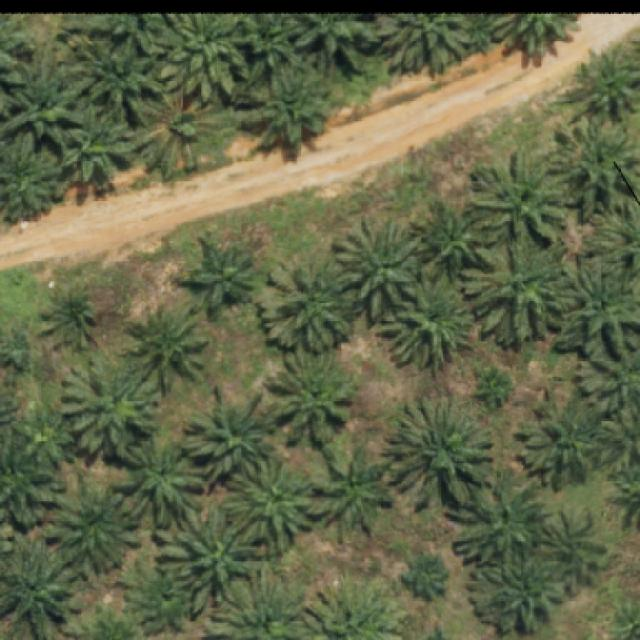Kelapa_Sawit: (383, 394, 495, 514), (154, 504, 260, 618), (55, 357, 160, 468), (462, 143, 570, 248), (446, 471, 556, 572), (463, 242, 565, 349), (180, 384, 278, 494), (333, 215, 425, 327), (44, 476, 142, 581), (378, 271, 474, 377), (69, 32, 171, 130), (258, 255, 358, 353), (266, 342, 356, 447), (223, 454, 314, 557), (119, 426, 206, 532), (130, 84, 222, 181), (308, 441, 390, 547), (518, 394, 604, 492), (470, 548, 564, 637), (123, 301, 209, 394), (5, 52, 84, 150), (412, 197, 499, 281), (242, 64, 333, 144), (52, 100, 132, 185), (536, 507, 610, 598), (186, 232, 254, 316), (120, 556, 185, 636), (13, 399, 75, 470), (39, 284, 104, 351), (399, 548, 452, 604), (472, 362, 516, 410)
